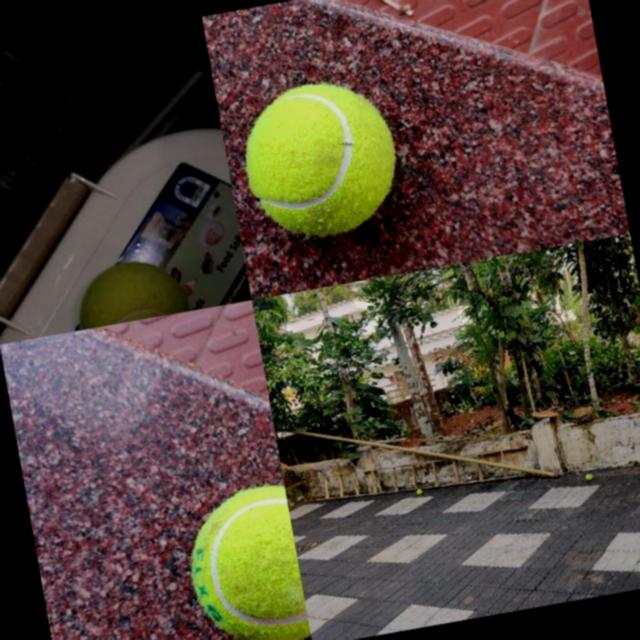tennis-ball: (234, 72, 406, 245), (179, 482, 310, 640), (70, 250, 192, 329), (585, 473, 593, 481), (415, 488, 422, 495)
